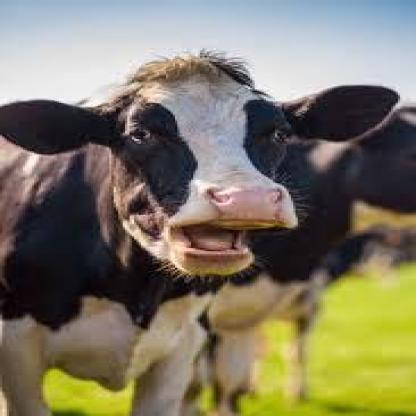cow: (0, 53, 400, 416), (179, 94, 416, 416)
